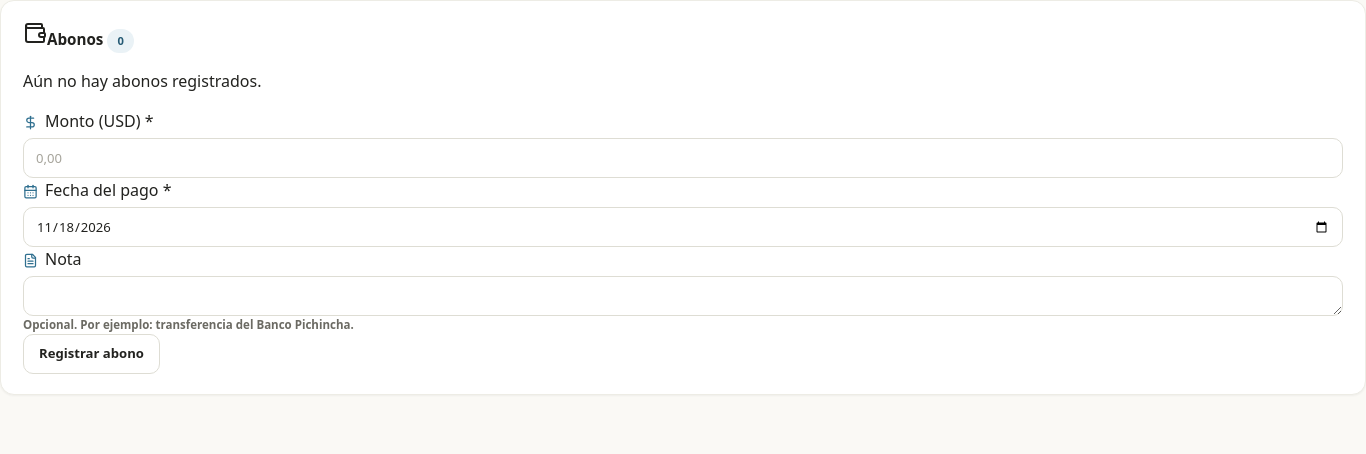
Test: registrar un abono muestra el error del campo o confirma y limpia el formulario
Expected: the text "Aún no hay abonos registrados." is shown, left=23, top=70, right=261, bottom=92
Type "8.45" into the field labelled "Monto (USD)" at (683, 158), box left=23, top=138, right=1343, bottom=178
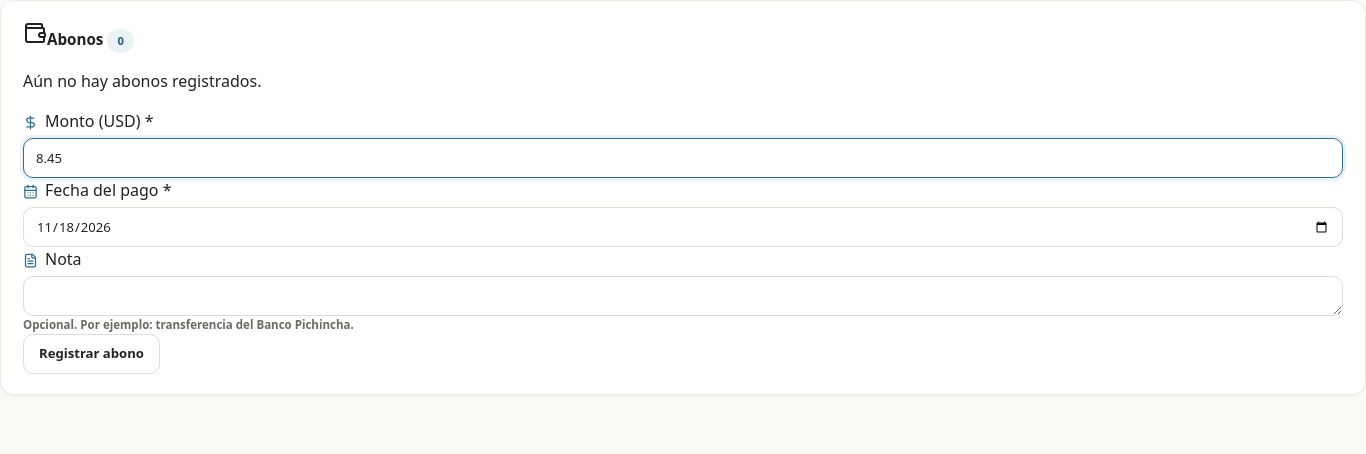
Click the button "Registrar abono" at (91, 354), box left=23, top=334, right=160, bottom=374
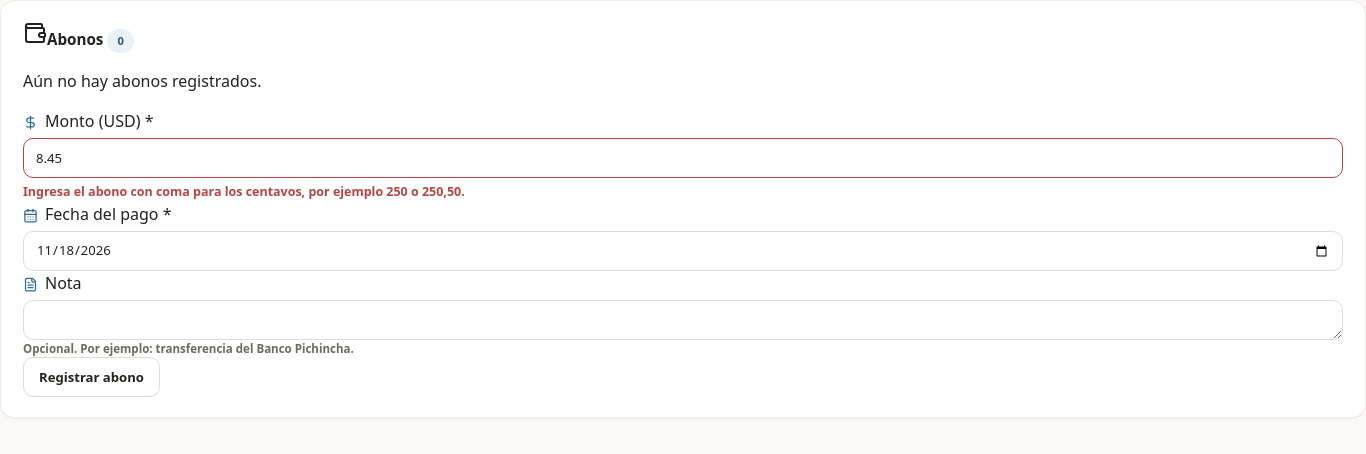
Expected: the text "por ejemplo 250 o 250,50" is shown, left=23, top=183, right=465, bottom=200
Replace the text in the field labelled "Monto (USD)" with "35" at (683, 158), box left=23, top=138, right=1343, bottom=178
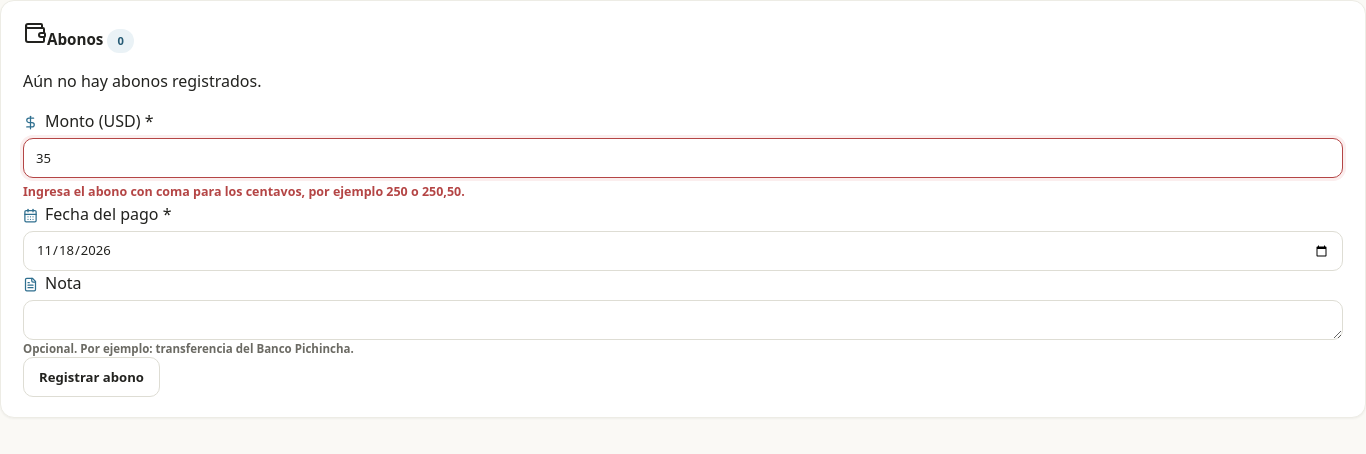
Type "Efectivo" into the text box labelled "Nota" at (683, 320), box left=23, top=300, right=1343, bottom=340
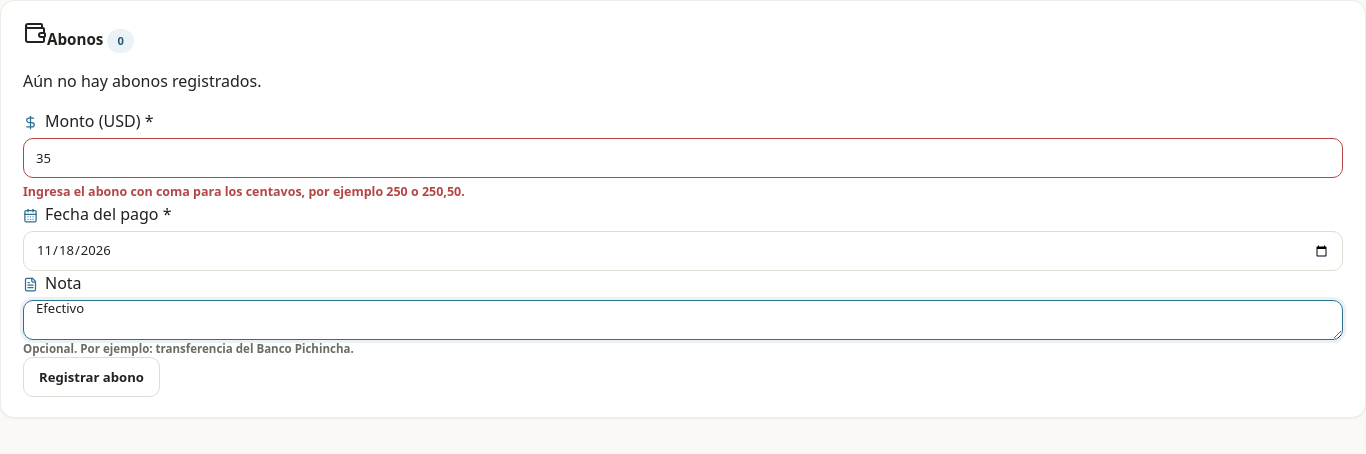
Click the button "Registrar abono" at (91, 377), box left=23, top=357, right=160, bottom=397
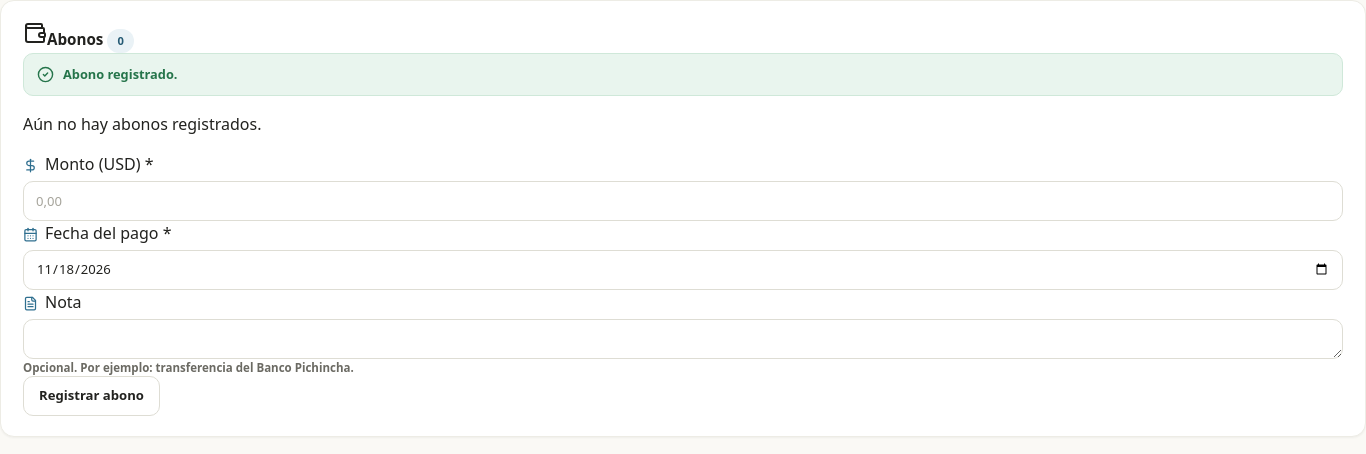
Expected: the text "Abono registrado." is shown, left=63, top=65, right=178, bottom=84
